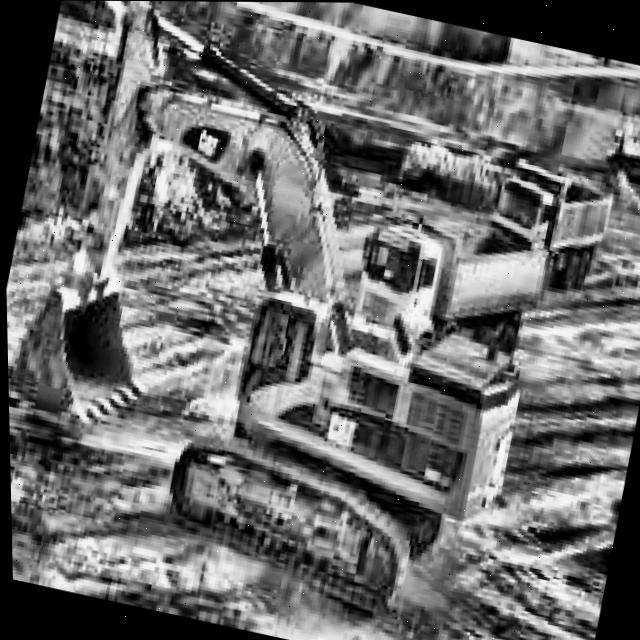dump_truck: (342, 196, 552, 363), (473, 142, 621, 298), (601, 117, 640, 180)
excavator: (0, 0, 584, 637)
